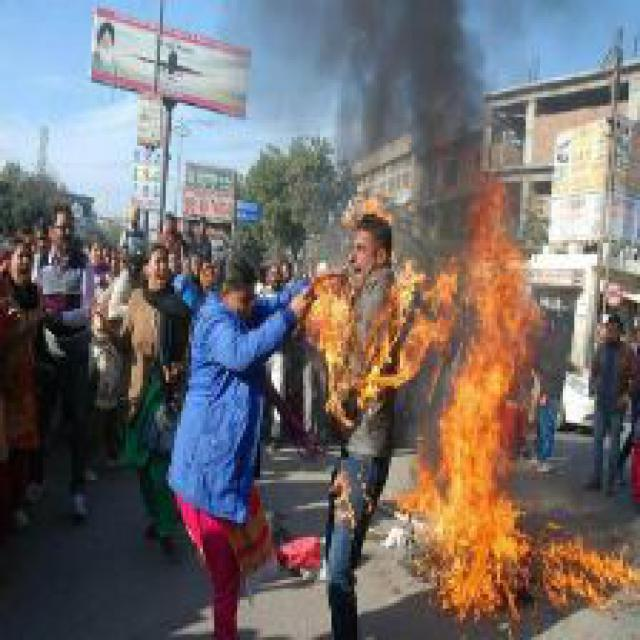fire: (406, 157, 620, 623), (297, 263, 443, 437)
